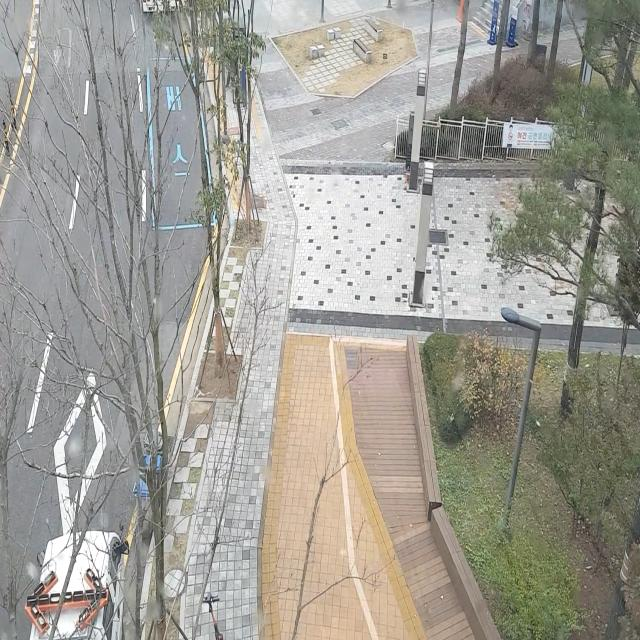Bus: (134, 0, 192, 24)
Truck: (11, 503, 148, 640)
